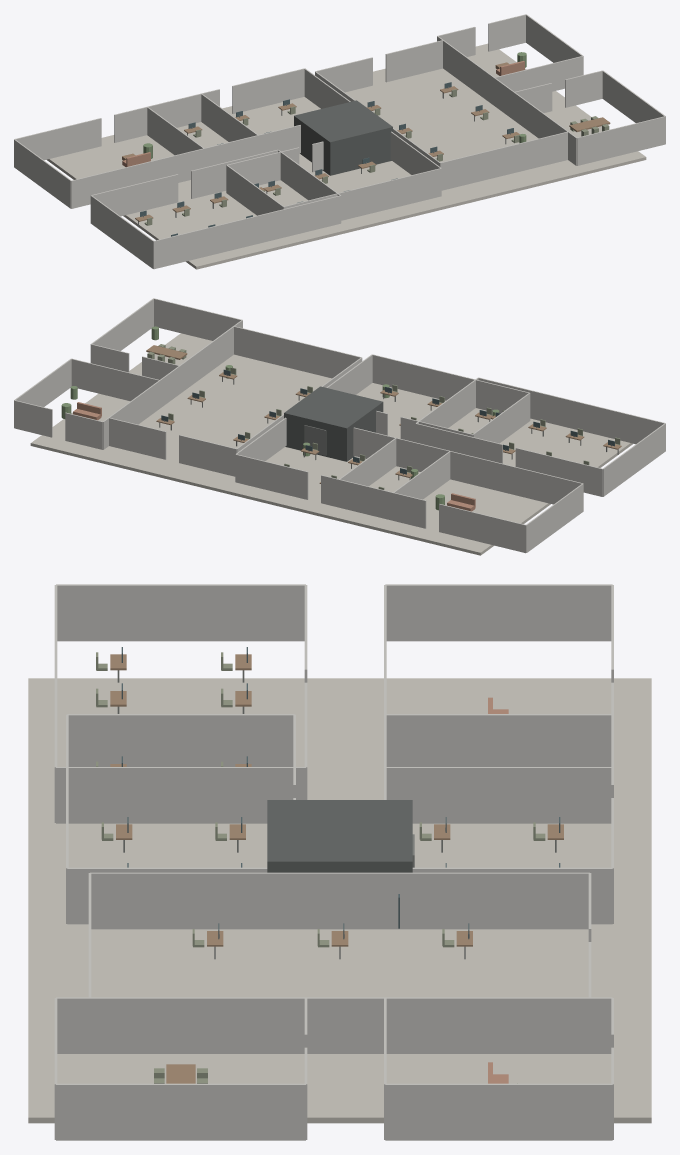
3 renders of one model, top to bottom at view 1: azimuth 30°, elevation 25°; view 2: azimuth 150°, elevation 25°; view 3: azimuth 270°, elevation 25°, orthographic. The views are drawn at different scales.
Visible parts, largest first — view 1: L3_slab, hr_north, L3_core, focus_quiet_north, finance_north, people_wellbeing_north, focus_quiet_east, meeting_records_north, people_wellbeing_south_r, hr_south_l, people_wellbeing_south_l, operations_south_r (+23 smaller); view 2: L3_slab, L3_core, hr_north, finance_north, people_wellbeing_north, focus_quiet_north, focus_quiet_east, people_wellbeing_south_l, people_wellbeing_south_r, informal_breakout_north, operations_south_r, meeting_records_north (+24 smaller); view 3: L3_slab, focus_quiet_west, focus_quiet_east, meeting_records_east, hr_west, informal_breakout_east, hr_east, people_wellbeing_west, people_wellbeing_east, operations_west, finance_west, L3_core (+5 smaller).
Part boxes in pixels (x1,y1,x2,y2): L3_slab: [46, 43, 646, 269]; hr_north: [153, 195, 340, 269]; L3_core: [294, 100, 392, 175]; focus_quiet_north: [440, 131, 567, 190]; finance_north: [283, 168, 441, 220]; people_wellbeing_north: [71, 135, 258, 208]; focus_quiet_east: [443, 40, 568, 138]; meeting_records_north: [577, 116, 665, 165]; people_wellbeing_south_r: [114, 93, 201, 142]; hr_south_l: [91, 174, 178, 216]; people_wellbeing_south_l: [14, 118, 101, 160]; operations_south_r: [232, 68, 304, 113]; L3_slab: [30, 333, 633, 555]; L3_core: [284, 386, 383, 461]; hr_north: [478, 377, 665, 444]; finance_north: [372, 354, 529, 413]; people_wellbeing_north: [397, 438, 582, 504]; focus_quiet_north: [234, 326, 361, 378]; focus_quiet_east: [109, 326, 233, 424]; people_wellbeing_south_l: [439, 504, 526, 553]; people_wellbeing_south_r: [339, 480, 426, 528]; informal_breakout_north: [71, 358, 159, 401]; operations_south_r: [235, 454, 308, 499]; meeting_records_north: [153, 298, 242, 340]; L3_slab: [28, 678, 651, 1123]; focus_quiet_west: [90, 872, 589, 929]; focus_quiet_east: [90, 997, 589, 1053]; meeting_records_east: [56, 1083, 305, 1140]; hr_west: [56, 584, 305, 641]; informal_breakout_east: [385, 1083, 612, 1140]; hr_east: [56, 767, 305, 823]; people_wellbeing_west: [385, 584, 612, 641]; people_wellbeing_east: [385, 767, 612, 823]; operations_west: [385, 714, 611, 766]; finance_west: [67, 714, 294, 766]; L3_core: [267, 800, 412, 872].
Size of the model in its own units: 52.12 by 3.54 by 27.43.
